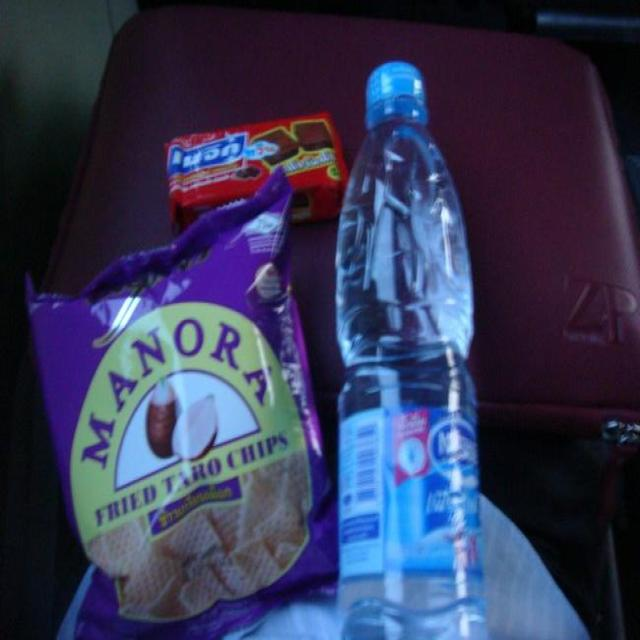bottle: (322, 44, 492, 640)
